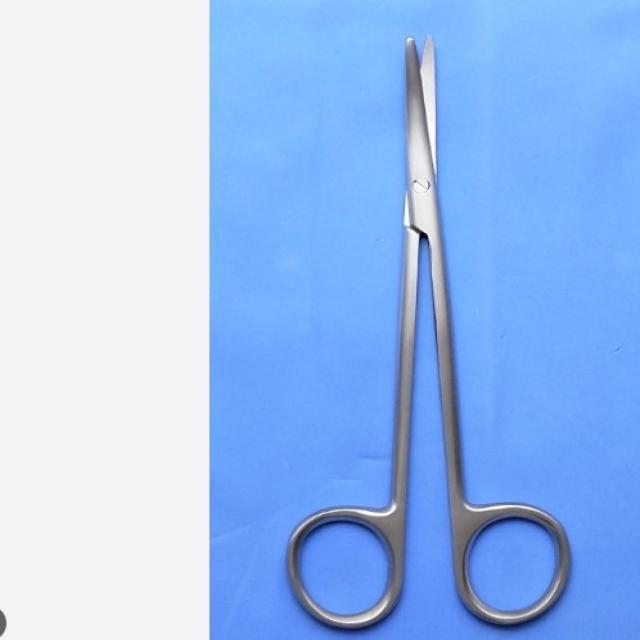Metzenbaum Sciccors: (281, 8, 578, 636)
